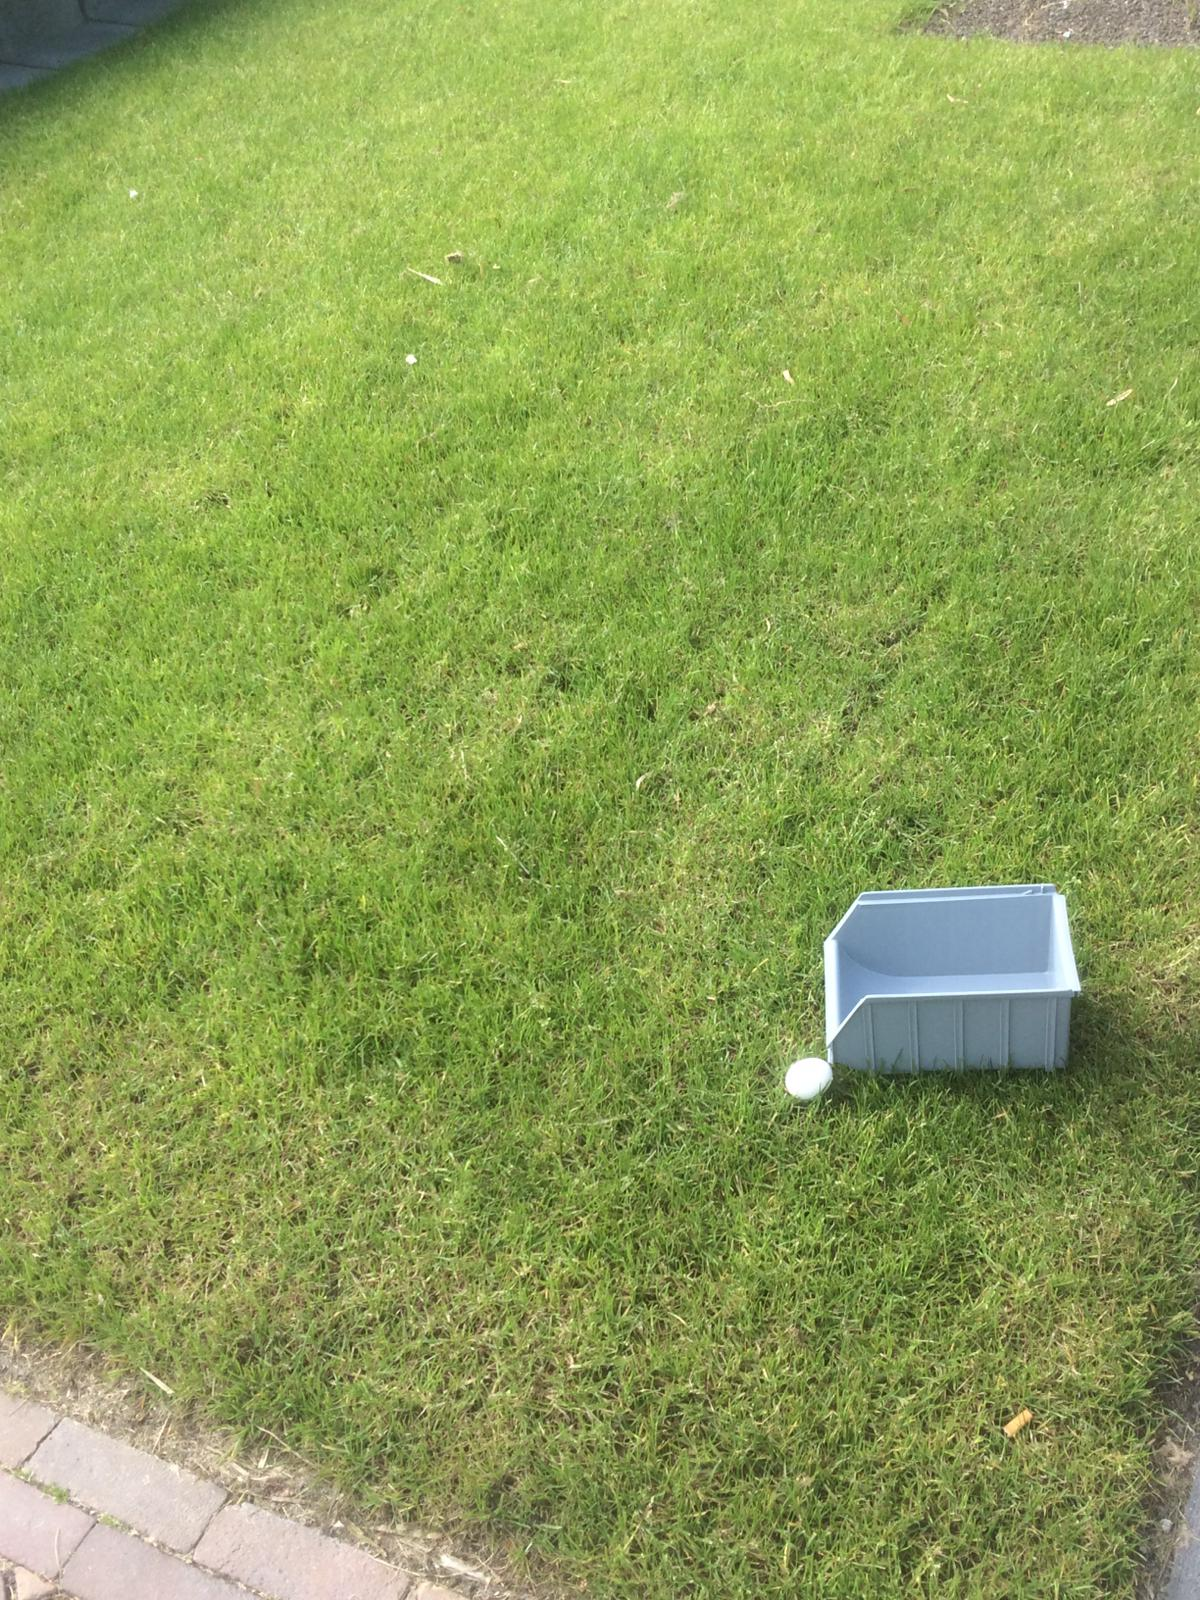egg: (775, 1049, 845, 1105)
tray: (822, 879, 1088, 1094)
